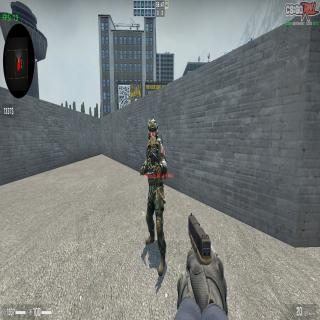CT-Body: (140, 119, 168, 278)
CT-Head: (147, 118, 159, 148)
